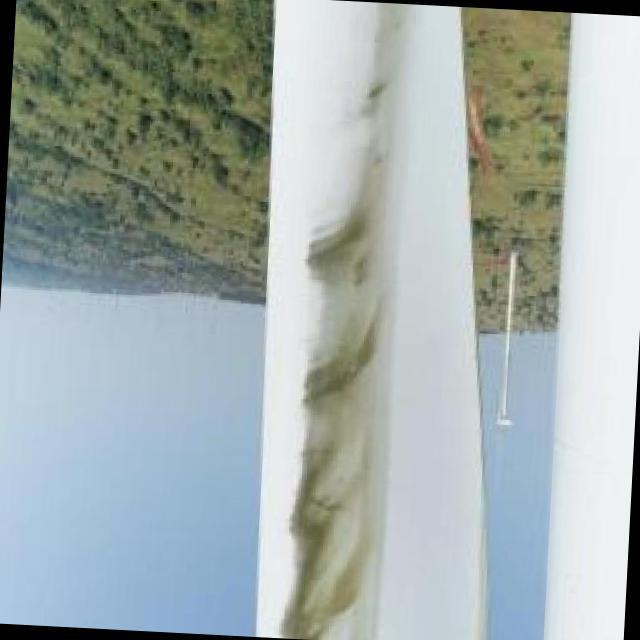Dirt: (279, 0, 403, 639)
